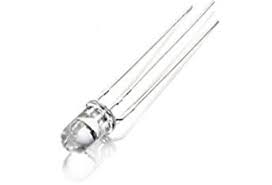LED: (61, 3, 220, 157)
